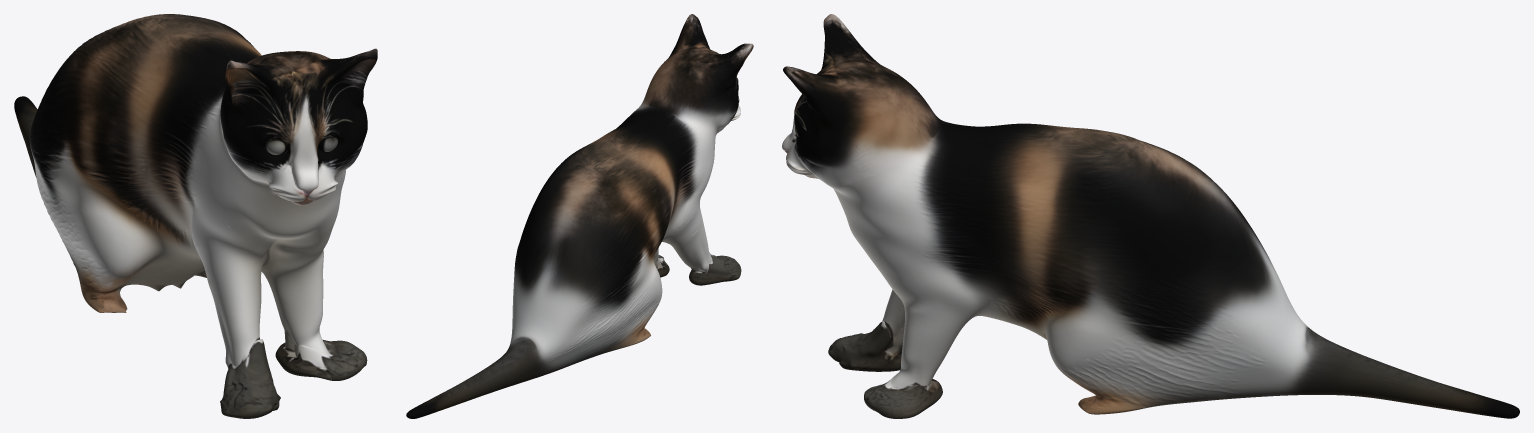
File: cat.glb
The picture shows the model from 3 angles, left to right: view 1: azimuth 30°, elevation 25°; view 2: azimuth 150°, elevation 25°; view 3: azimuth 270°, elevation 25°; orthographic projection. The views are drawn at different scales.
Visible parts, largest first — view 1: node_0; view 2: node_0; view 3: node_0.
Boxes of the visible parts, x1,y1,x2,y2 form: node_0: (14,14,377,418); node_0: (406,14,753,418); node_0: (782,14,1519,418).
Size of the model in its own units: 0.2774 by 0.5302 by 1.06.
Materials: 1 (1 with a texture image).
